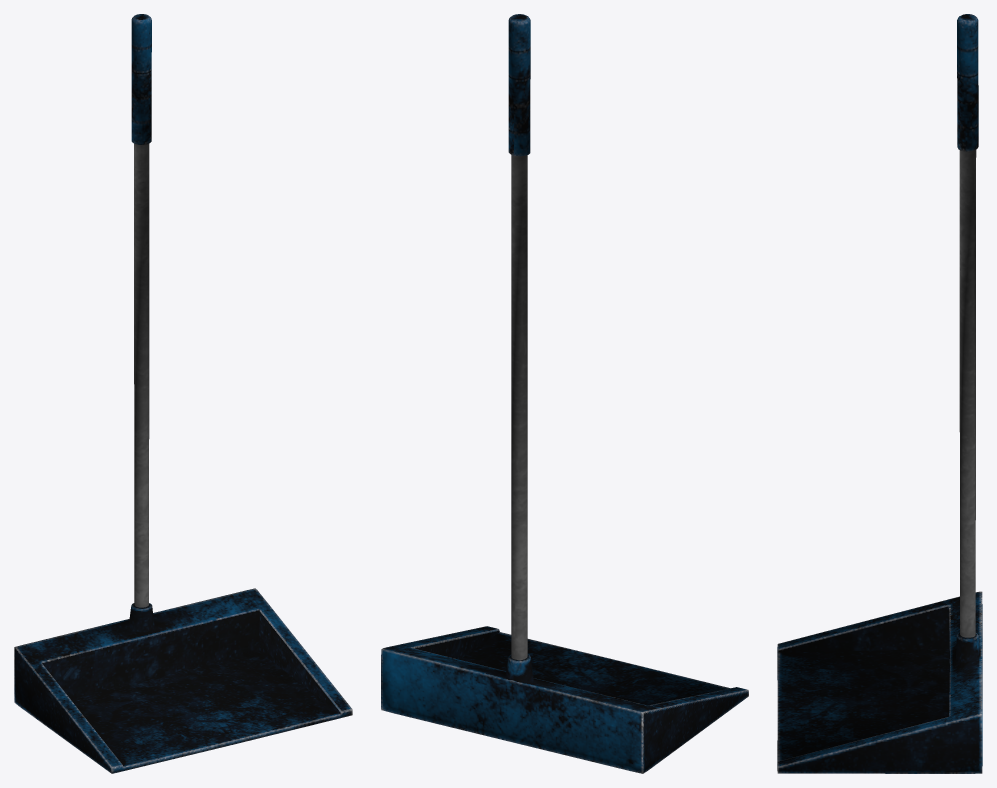
The model's file is Dustpan2.fbx.
The picture shows the model from 3 angles, left to right: view 1: azimuth 30°, elevation 25°; view 2: azimuth 150°, elevation 25°; view 3: azimuth 270°, elevation 25°; orthographic projection. The views are drawn at different scales.
Parts seen in each view (by area): view 1: R_Dustpan.001; view 2: R_Dustpan.001; view 3: R_Dustpan.001.
Boxes of the visible parts, <box> form: R_Dustpan.001: <box>14,14,352,773</box>; R_Dustpan.001: <box>381,14,748,773</box>; R_Dustpan.001: <box>777,14,982,773</box>.
Bounding box in the file's own units: 60.53 × 159 × 42.48.
Materials: 1 (1 with a texture image).
